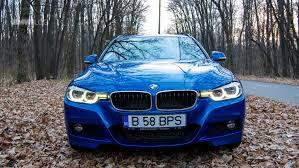5: (142, 116, 149, 126)
8: (149, 116, 156, 127)
B: (131, 117, 140, 126), (159, 116, 167, 126)
P: (166, 116, 174, 125)
S: (174, 115, 182, 126)
